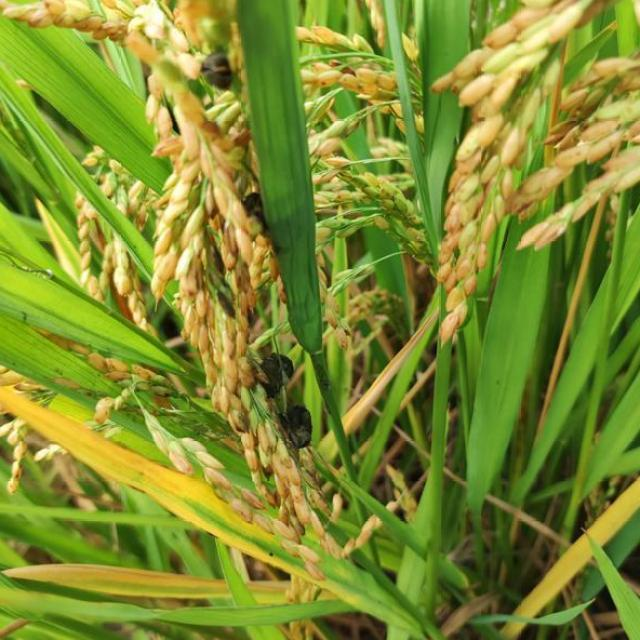Leaf_Scald: (254, 350, 296, 396), (276, 403, 314, 451), (198, 48, 236, 90)
